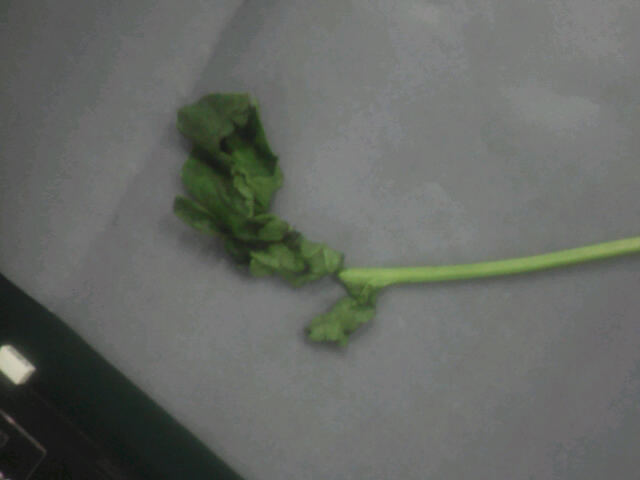yellow: (121, 79, 428, 359)
